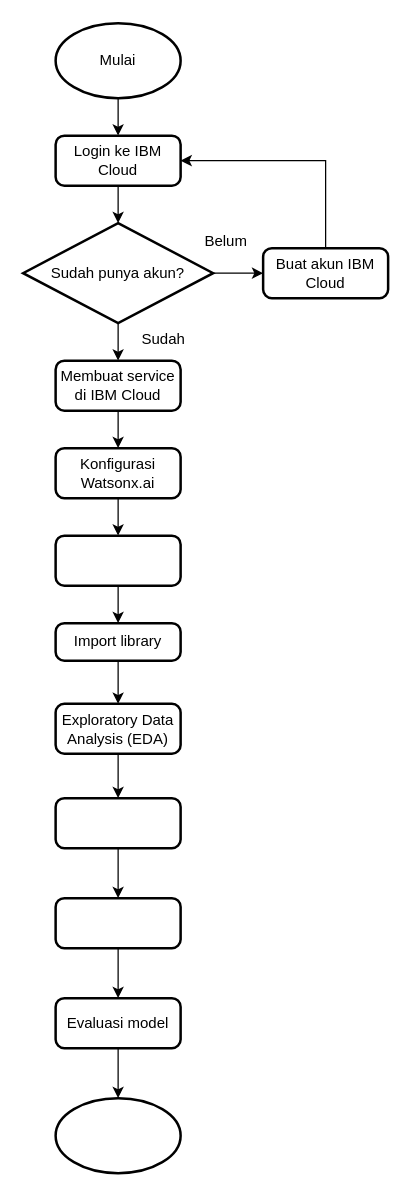
This 410x1195 diagram has some shape labels left out. Here are the shapes that lost their labels. From the top down, the box of each, then its label:
(54, 534, 181, 586): Persiapan dataset
(54, 796, 181, 849): Data preprocessing
(54, 896, 181, 949): Training model
(54, 1096, 181, 1174): Selesai
